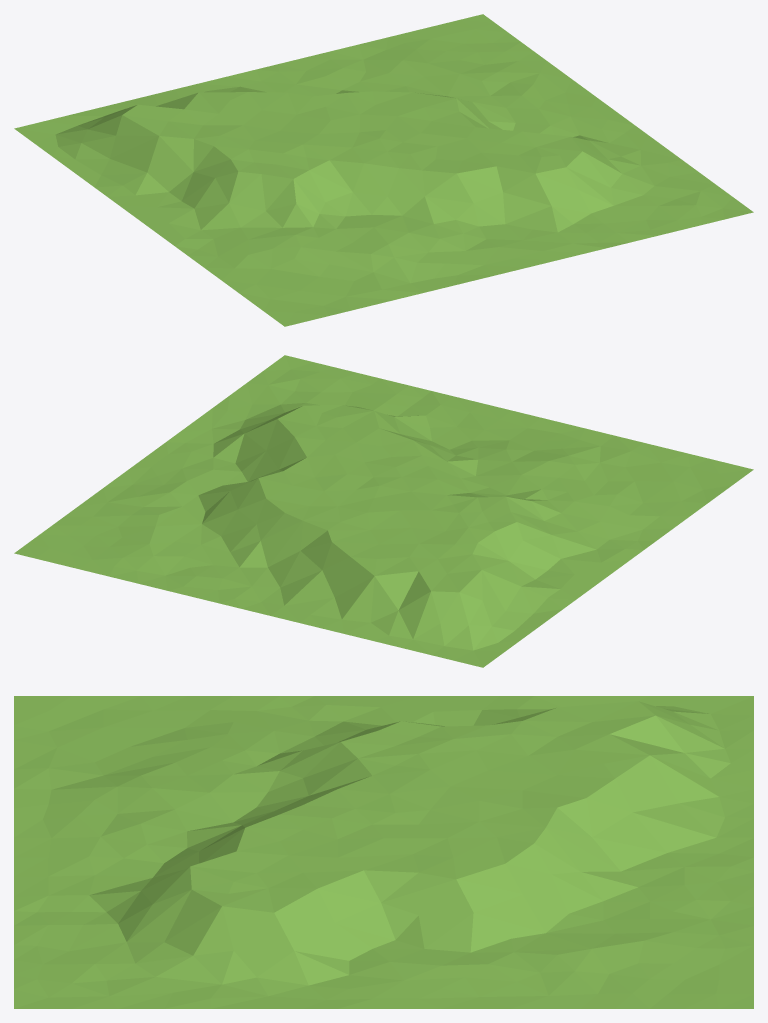
Rendered from MT_Terrain_M_c_11.fbx.
3 renders of one model, top to bottom at view 1: azimuth 30°, elevation 25°; view 2: azimuth 150°, elevation 25°; view 3: azimuth 270°, elevation 25°, orthographic. The views are drawn at different scales.
Parts seen in each view (by area): view 1: MT_Terrain_M_c_11; view 2: MT_Terrain_M_c_11; view 3: MT_Terrain_M_c_11.
Part boxes in pixels (<box>): MT_Terrain_M_c_11: <box>14,14,753,326</box>; MT_Terrain_M_c_11: <box>14,355,753,667</box>; MT_Terrain_M_c_11: <box>14,696,753,1008</box>.
Bounding box in the file's own units: 5000 × 308 × 5000.
